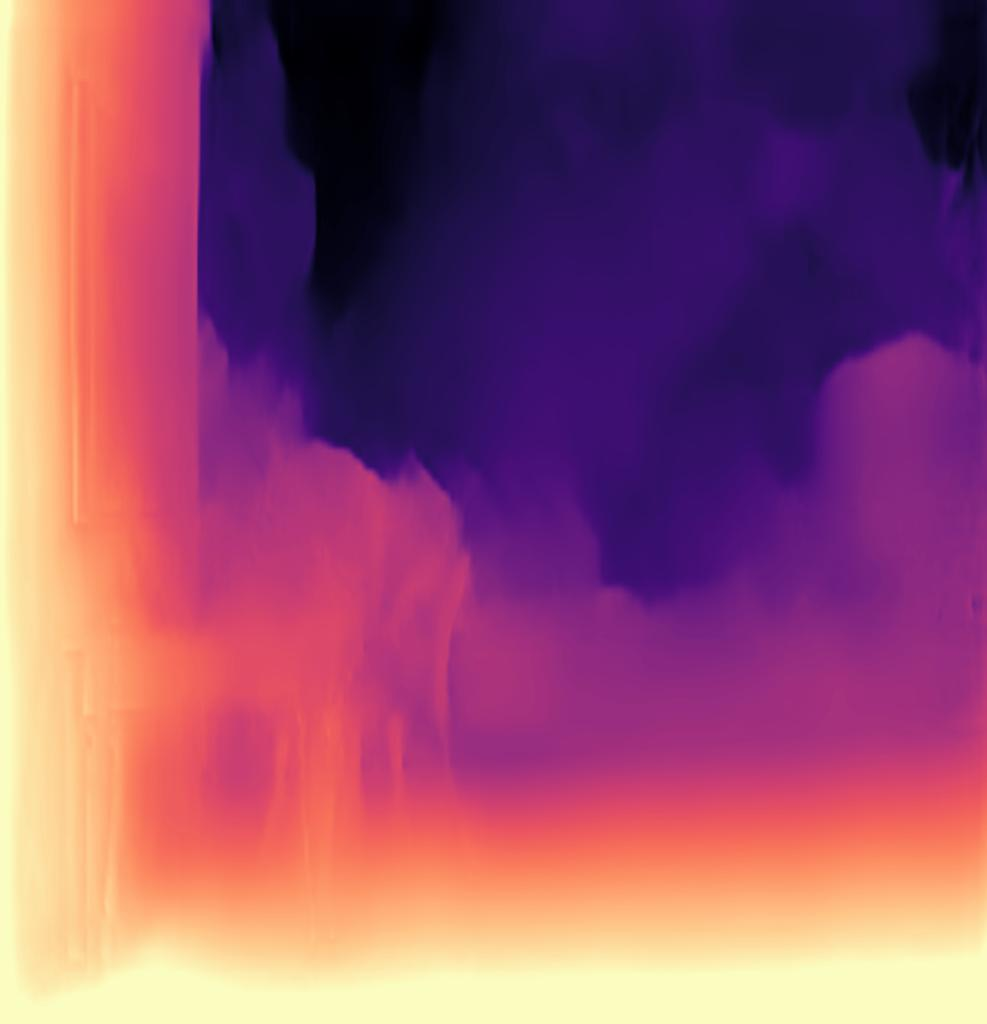painting: (198, 26, 987, 795)
